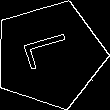L_E: (19, 32, 80, 77)
